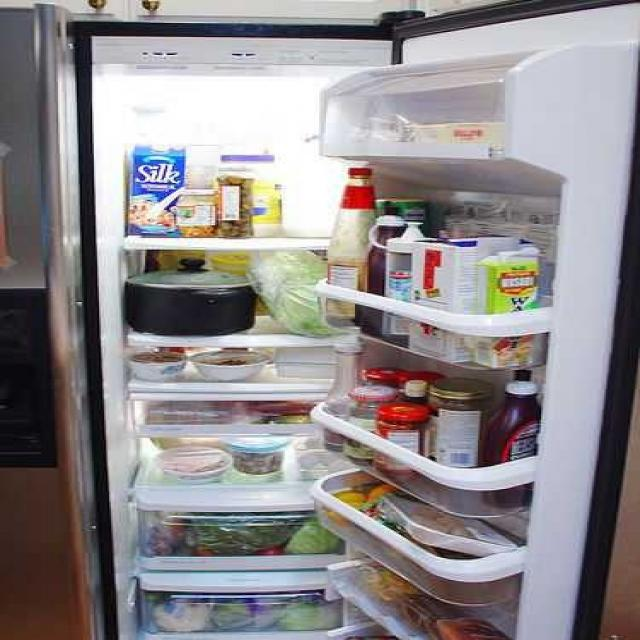refrigerator: (3, 0, 640, 635)
